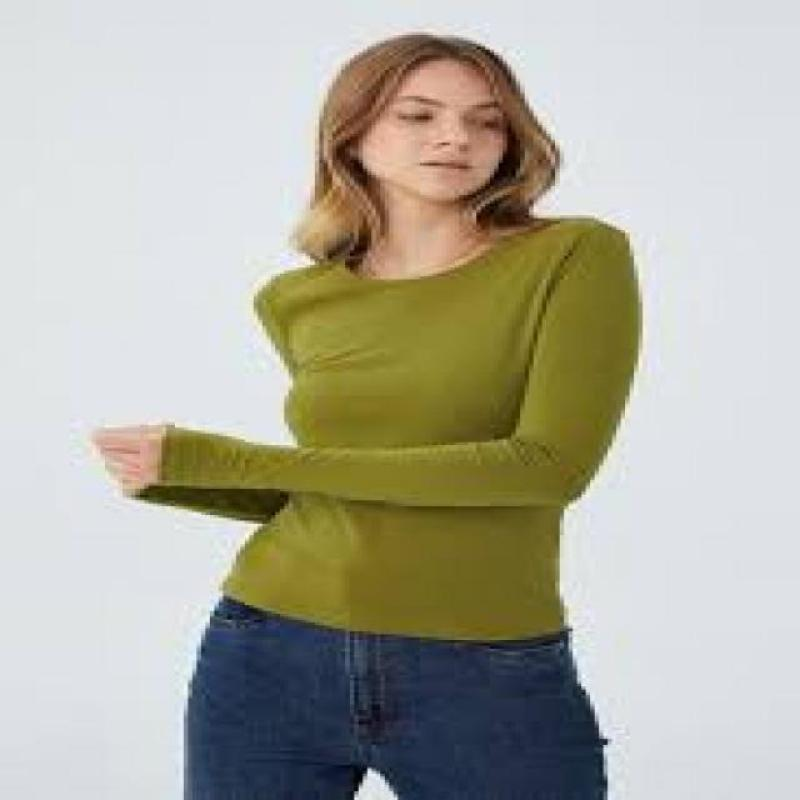long sleeve shirt: (132, 212, 646, 640)
